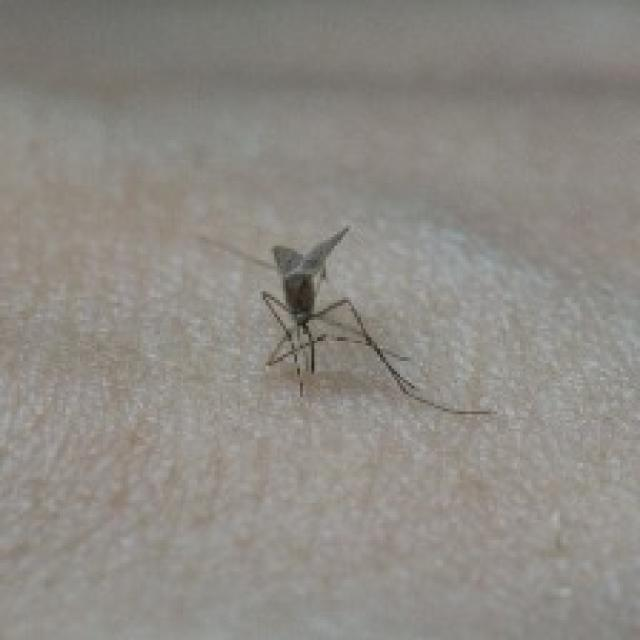culex: (194, 223, 492, 414)
